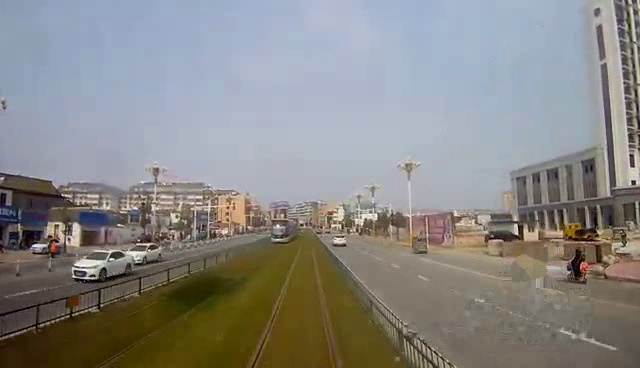car: (73, 251, 138, 278), (127, 243, 170, 265), (326, 230, 351, 251)
train: (270, 220, 301, 245)
